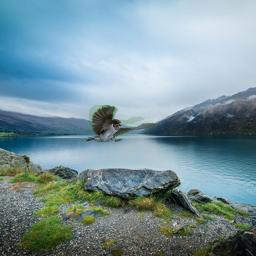Swallow: (85, 105, 156, 142)
